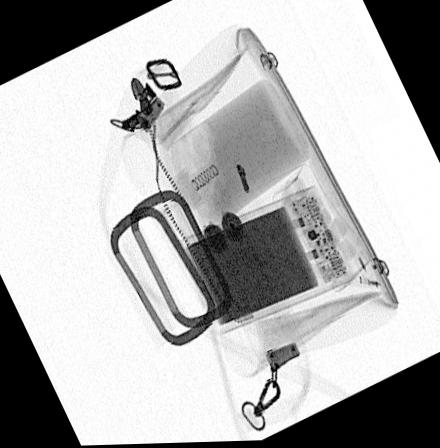Powerbank: (182, 186, 354, 333)
